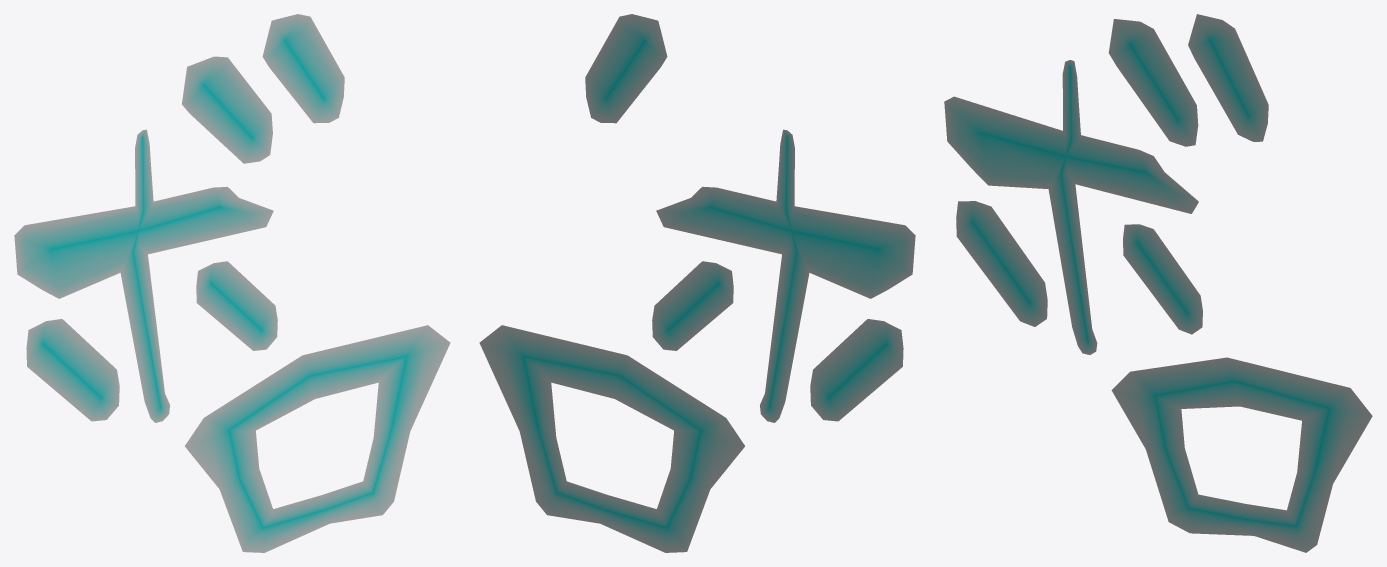
The model's file is SM_EFF_Text_C4karura_02.glb.
3 views of the same model, side by side, from view 1: azimuth 30°, elevation 25°; view 2: azimuth 150°, elevation 25°; view 3: azimuth 330°, elevation 25° (orthographic).
Visible parts, largest first — view 1: SM_EFF_Text_C4karura_02; view 2: SM_EFF_Text_C4karura_02; view 3: SM_EFF_Text_C4karura_02.
Part boxes in pixels (x1=…): SM_EFF_Text_C4karura_02: x1=14, y1=14, x2=450, y2=552; SM_EFF_Text_C4karura_02: x1=479, y1=14, x2=915, y2=552; SM_EFF_Text_C4karura_02: x1=944, y1=14, x2=1372, y2=552.
Size of the model in its own units: 0.9159 by 1.07 by 7.32e-14.
